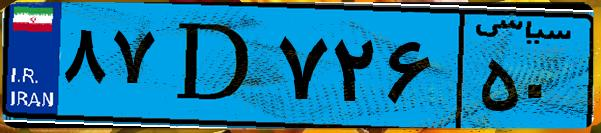0: (525, 38, 570, 115)
2: (330, 28, 385, 110)
5: (475, 38, 525, 113)
6: (385, 28, 445, 110)
7: (270, 28, 330, 110), (110, 28, 158, 98)
8: (57, 26, 110, 100)
D: (158, 12, 270, 120)
